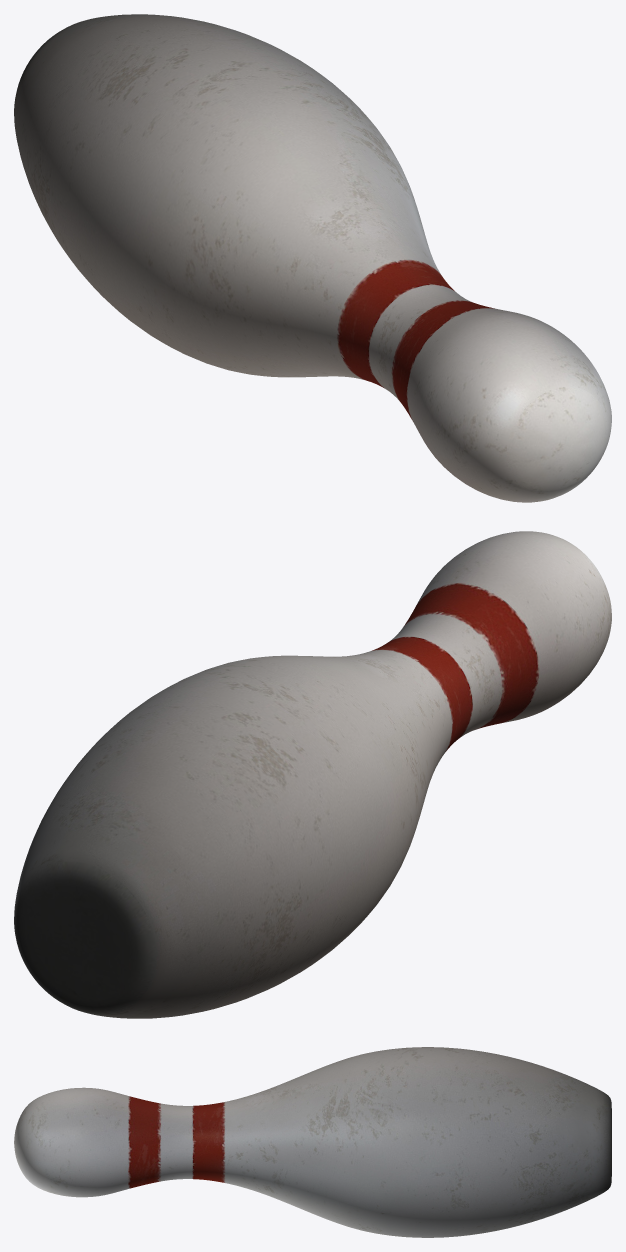
Rendered from pin.glb.
3 views of the same model, one above another, from view 1: azimuth 30°, elevation 25°; view 2: azimuth 150°, elevation 25°; view 3: azimuth 270°, elevation 25° (orthographic). The views are drawn at different scales.
Visible parts, largest first — view 1: pin; view 2: pin; view 3: pin.
Part boxes in pixels (x1,y1,x2,y2): pin: [14, 14, 611, 502]; pin: [14, 531, 611, 1018]; pin: [14, 1047, 611, 1237].
Bounding box in the file's own units: 12.09 × 12.09 × 37.87.
Materials: 1 (1 with a texture image).
